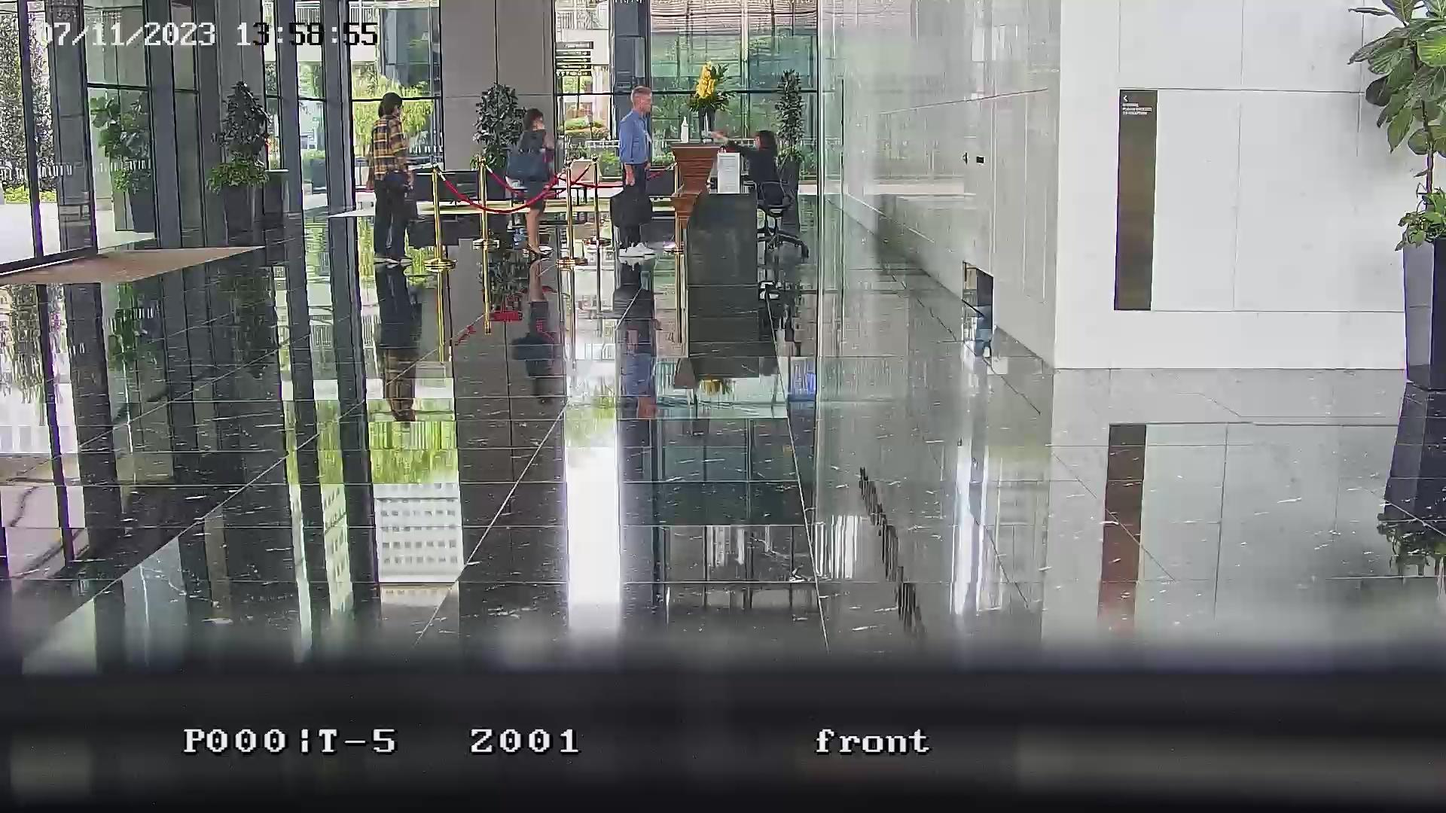person: (368, 91, 416, 262), (503, 108, 555, 257), (612, 77, 655, 253), (713, 127, 782, 203)
